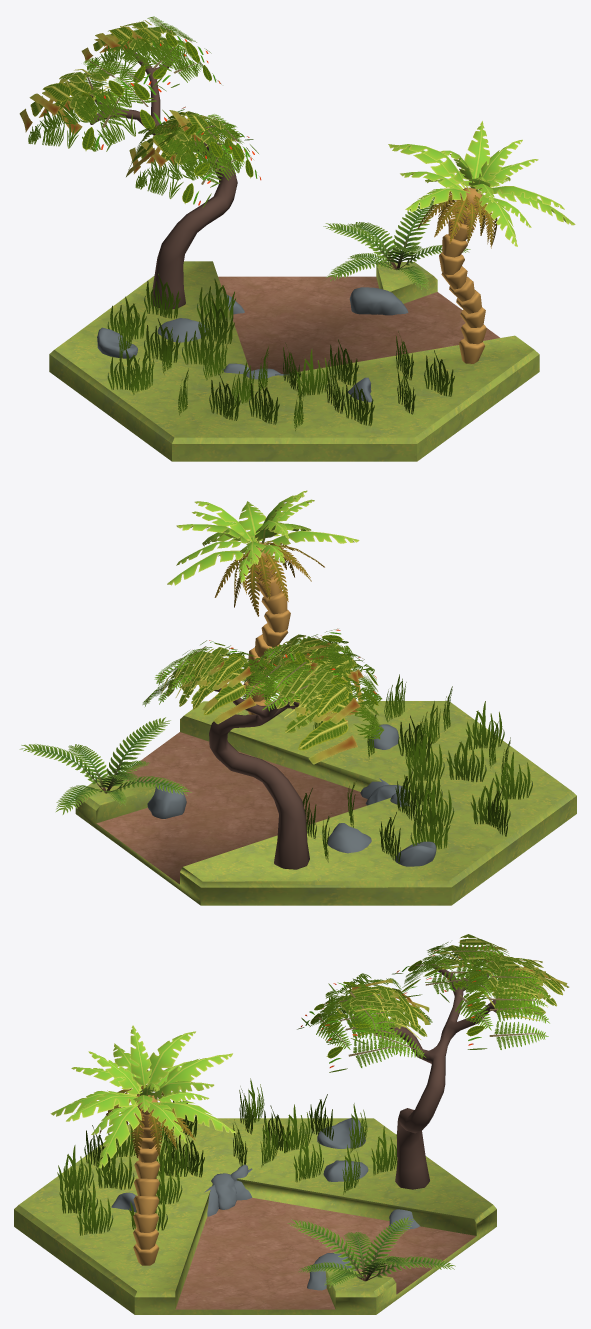
Rendered from HexTile4.fbx.
3 views of the same model, one above another, from view 1: azimuth 30°, elevation 25°; view 2: azimuth 150°, elevation 25°; view 3: azimuth 270°, elevation 25° (orthographic). The views are drawn at different scales.
Parts seen in each view (by area): view 1: Terrain_01.017, Tree1, grass1.007, normalPalm2, plant1.003, rock3.004; view 2: Terrain_01.017, Tree1, grass1.007, normalPalm2, plant1.003, rock3.004; view 3: Terrain_01.017, Tree1, normalPalm2, grass1.007, plant1.003, rock3.004, grass1.001.
Part boxes in pixels (x1,y1,x2,y2): Terrain_01.017: (49, 261, 539, 461); Tree1: (19, 16, 261, 309); grass1.007: (107, 273, 454, 431); normalPalm2: (388, 121, 575, 363); plant1.003: (323, 197, 470, 289); rock3.004: (97, 287, 408, 402); Terrain_01.017: (75, 701, 576, 905); Tree1: (142, 628, 383, 869); grass1.007: (302, 674, 532, 862); normalPalm2: (167, 490, 359, 714); plant1.003: (19, 717, 191, 814); rock3.004: (147, 724, 436, 866); Terrain_01.017: (14, 1118, 496, 1314); Tree1: (297, 934, 569, 1189); normalPalm2: (50, 1025, 235, 1265); grass1.007: (57, 1078, 397, 1235); plant1.003: (287, 1216, 455, 1287); rock3.004: (111, 1118, 420, 1290); grass1.001: (156, 1131, 190, 1177).
Bounding box in the file's own units: 1932 × 1300 × 2331.
